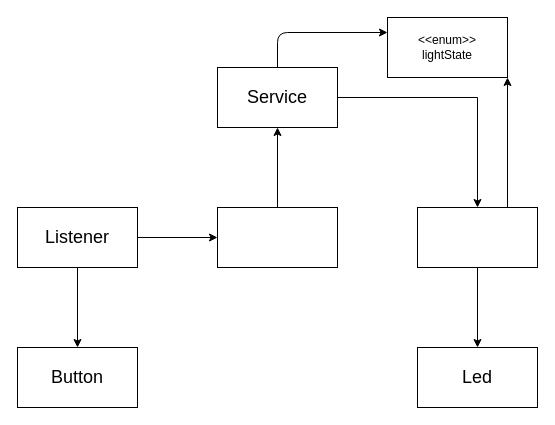
Some shapes in this 555 by 425 pixel diagram are drawn without their labels. The shapes that lost their labels are listed below. From the top down, each one's centre as x and y in pixels, then its label:
At (277,237): "Controller".
At (477,237): "View".
